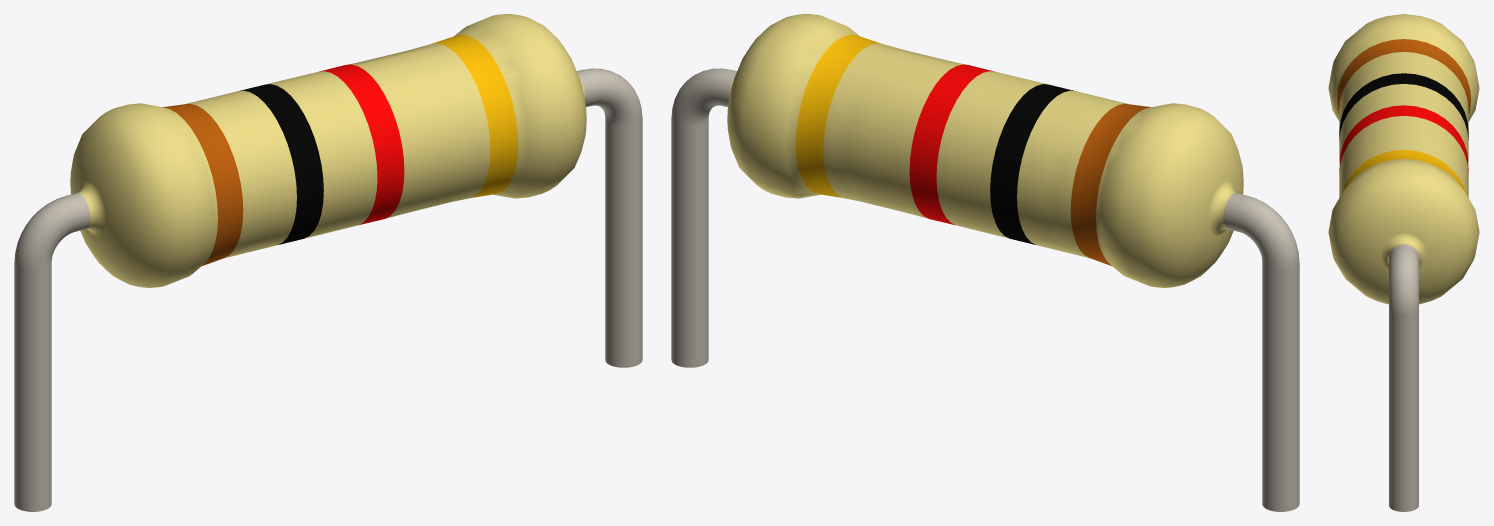
The model's file is Resistor 05W.fbx.
3 renders of one model, left to right at view 1: azimuth 30°, elevation 25°; view 2: azimuth 150°, elevation 25°; view 3: azimuth 270°, elevation 25°, orthographic. The views are drawn at different scales.
Visible parts, largest first — view 1: resistor 0W5-1K0; view 2: resistor 0W5-1K0; view 3: resistor 0W5-1K0.
Boxes of the visible parts, bbox=[...] form: resistor 0W5-1K0: bbox=[14, 14, 642, 511]; resistor 0W5-1K0: bbox=[671, 14, 1299, 511]; resistor 0W5-1K0: bbox=[1328, 14, 1479, 511].
Bounding box in the file's own units: 1.16 × 0.65 × 0.3.
